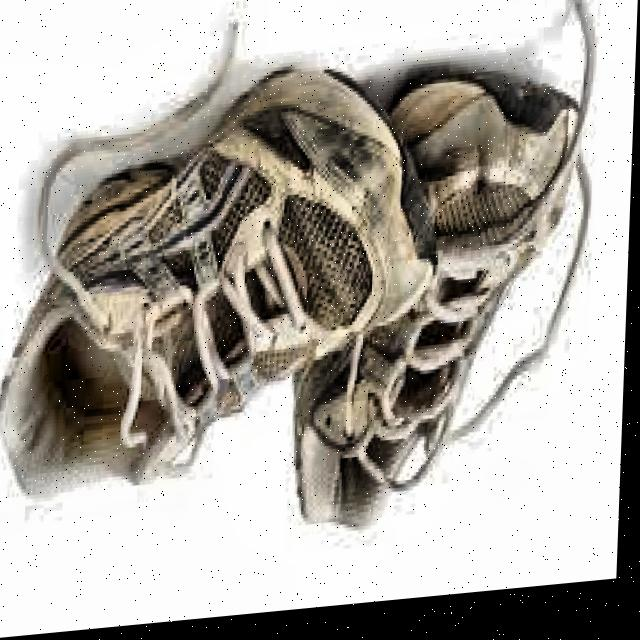shoes: (0, 0, 599, 568)
